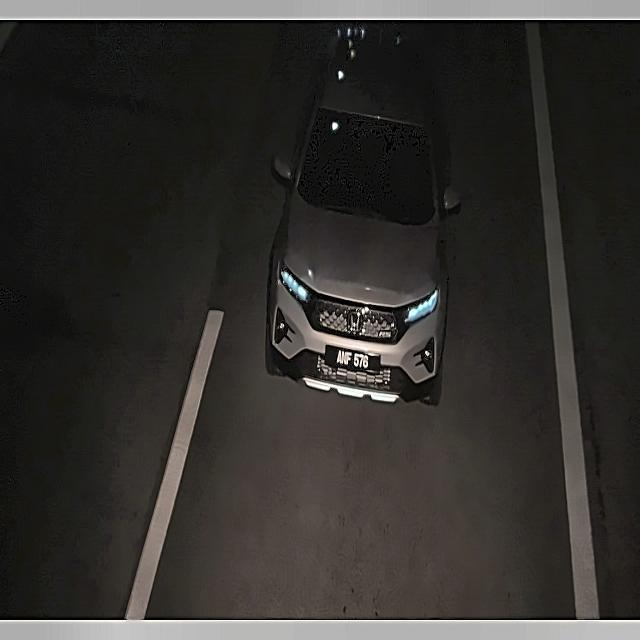car: (324, 340, 382, 380)
